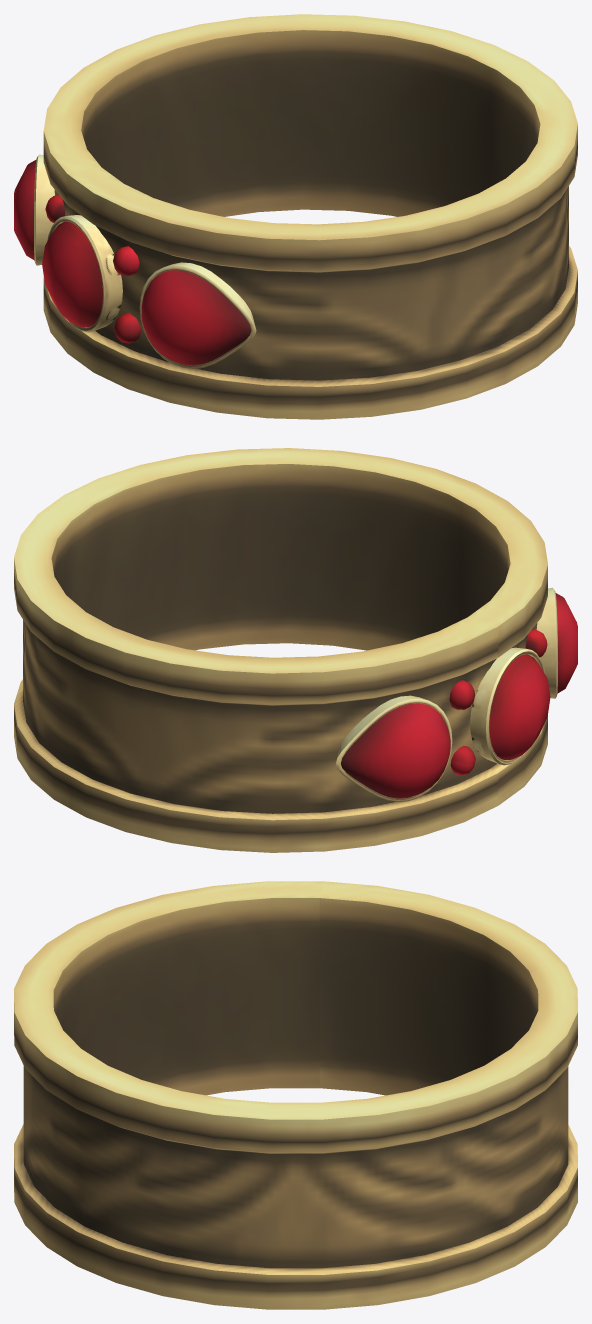
File: SM_Ring_D_Gold.fbx
3 views of the same model, one above another, from view 1: azimuth 30°, elevation 25°; view 2: azimuth 150°, elevation 25°; view 3: azimuth 270°, elevation 25° (orthographic). The views are drawn at different scales.
Visible parts, largest first — view 1: SM_Ring_D_Gold_LOD0; view 2: SM_Ring_D_Gold_LOD0; view 3: SM_Ring_D_Gold_LOD0.
Part boxes in pixels (<box>): SM_Ring_D_Gold_LOD0: <box>14,14,577,419</box>; SM_Ring_D_Gold_LOD0: <box>14,448,577,852</box>; SM_Ring_D_Gold_LOD0: <box>14,881,577,1309</box>.
Bounding box in the file's own units: 3.52 × 3.32 × 1.24.
Materials: 2 (2 with a texture image).
